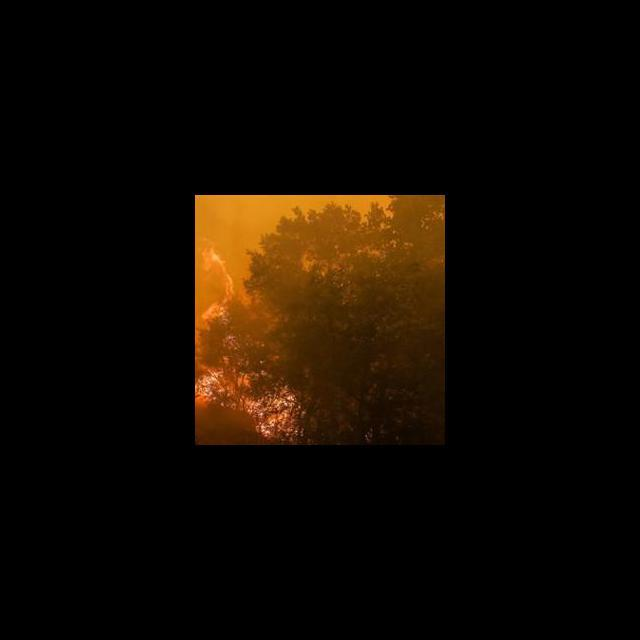Fire: (196, 240, 306, 442)
